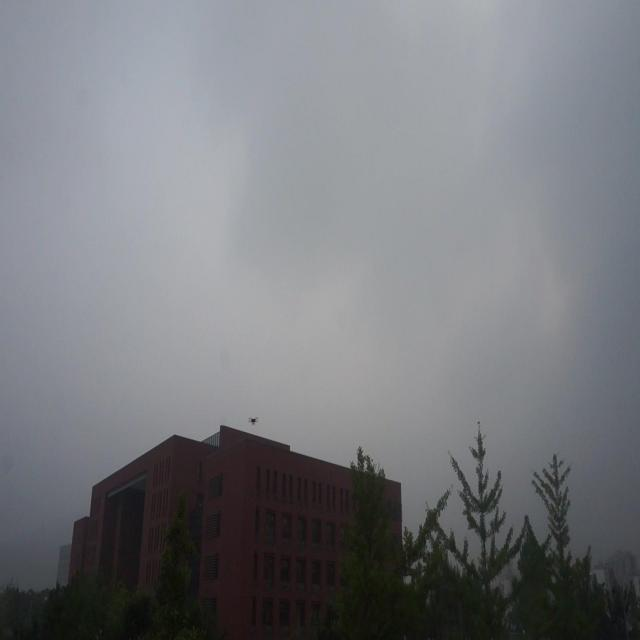UAV: (248, 417, 259, 426)
